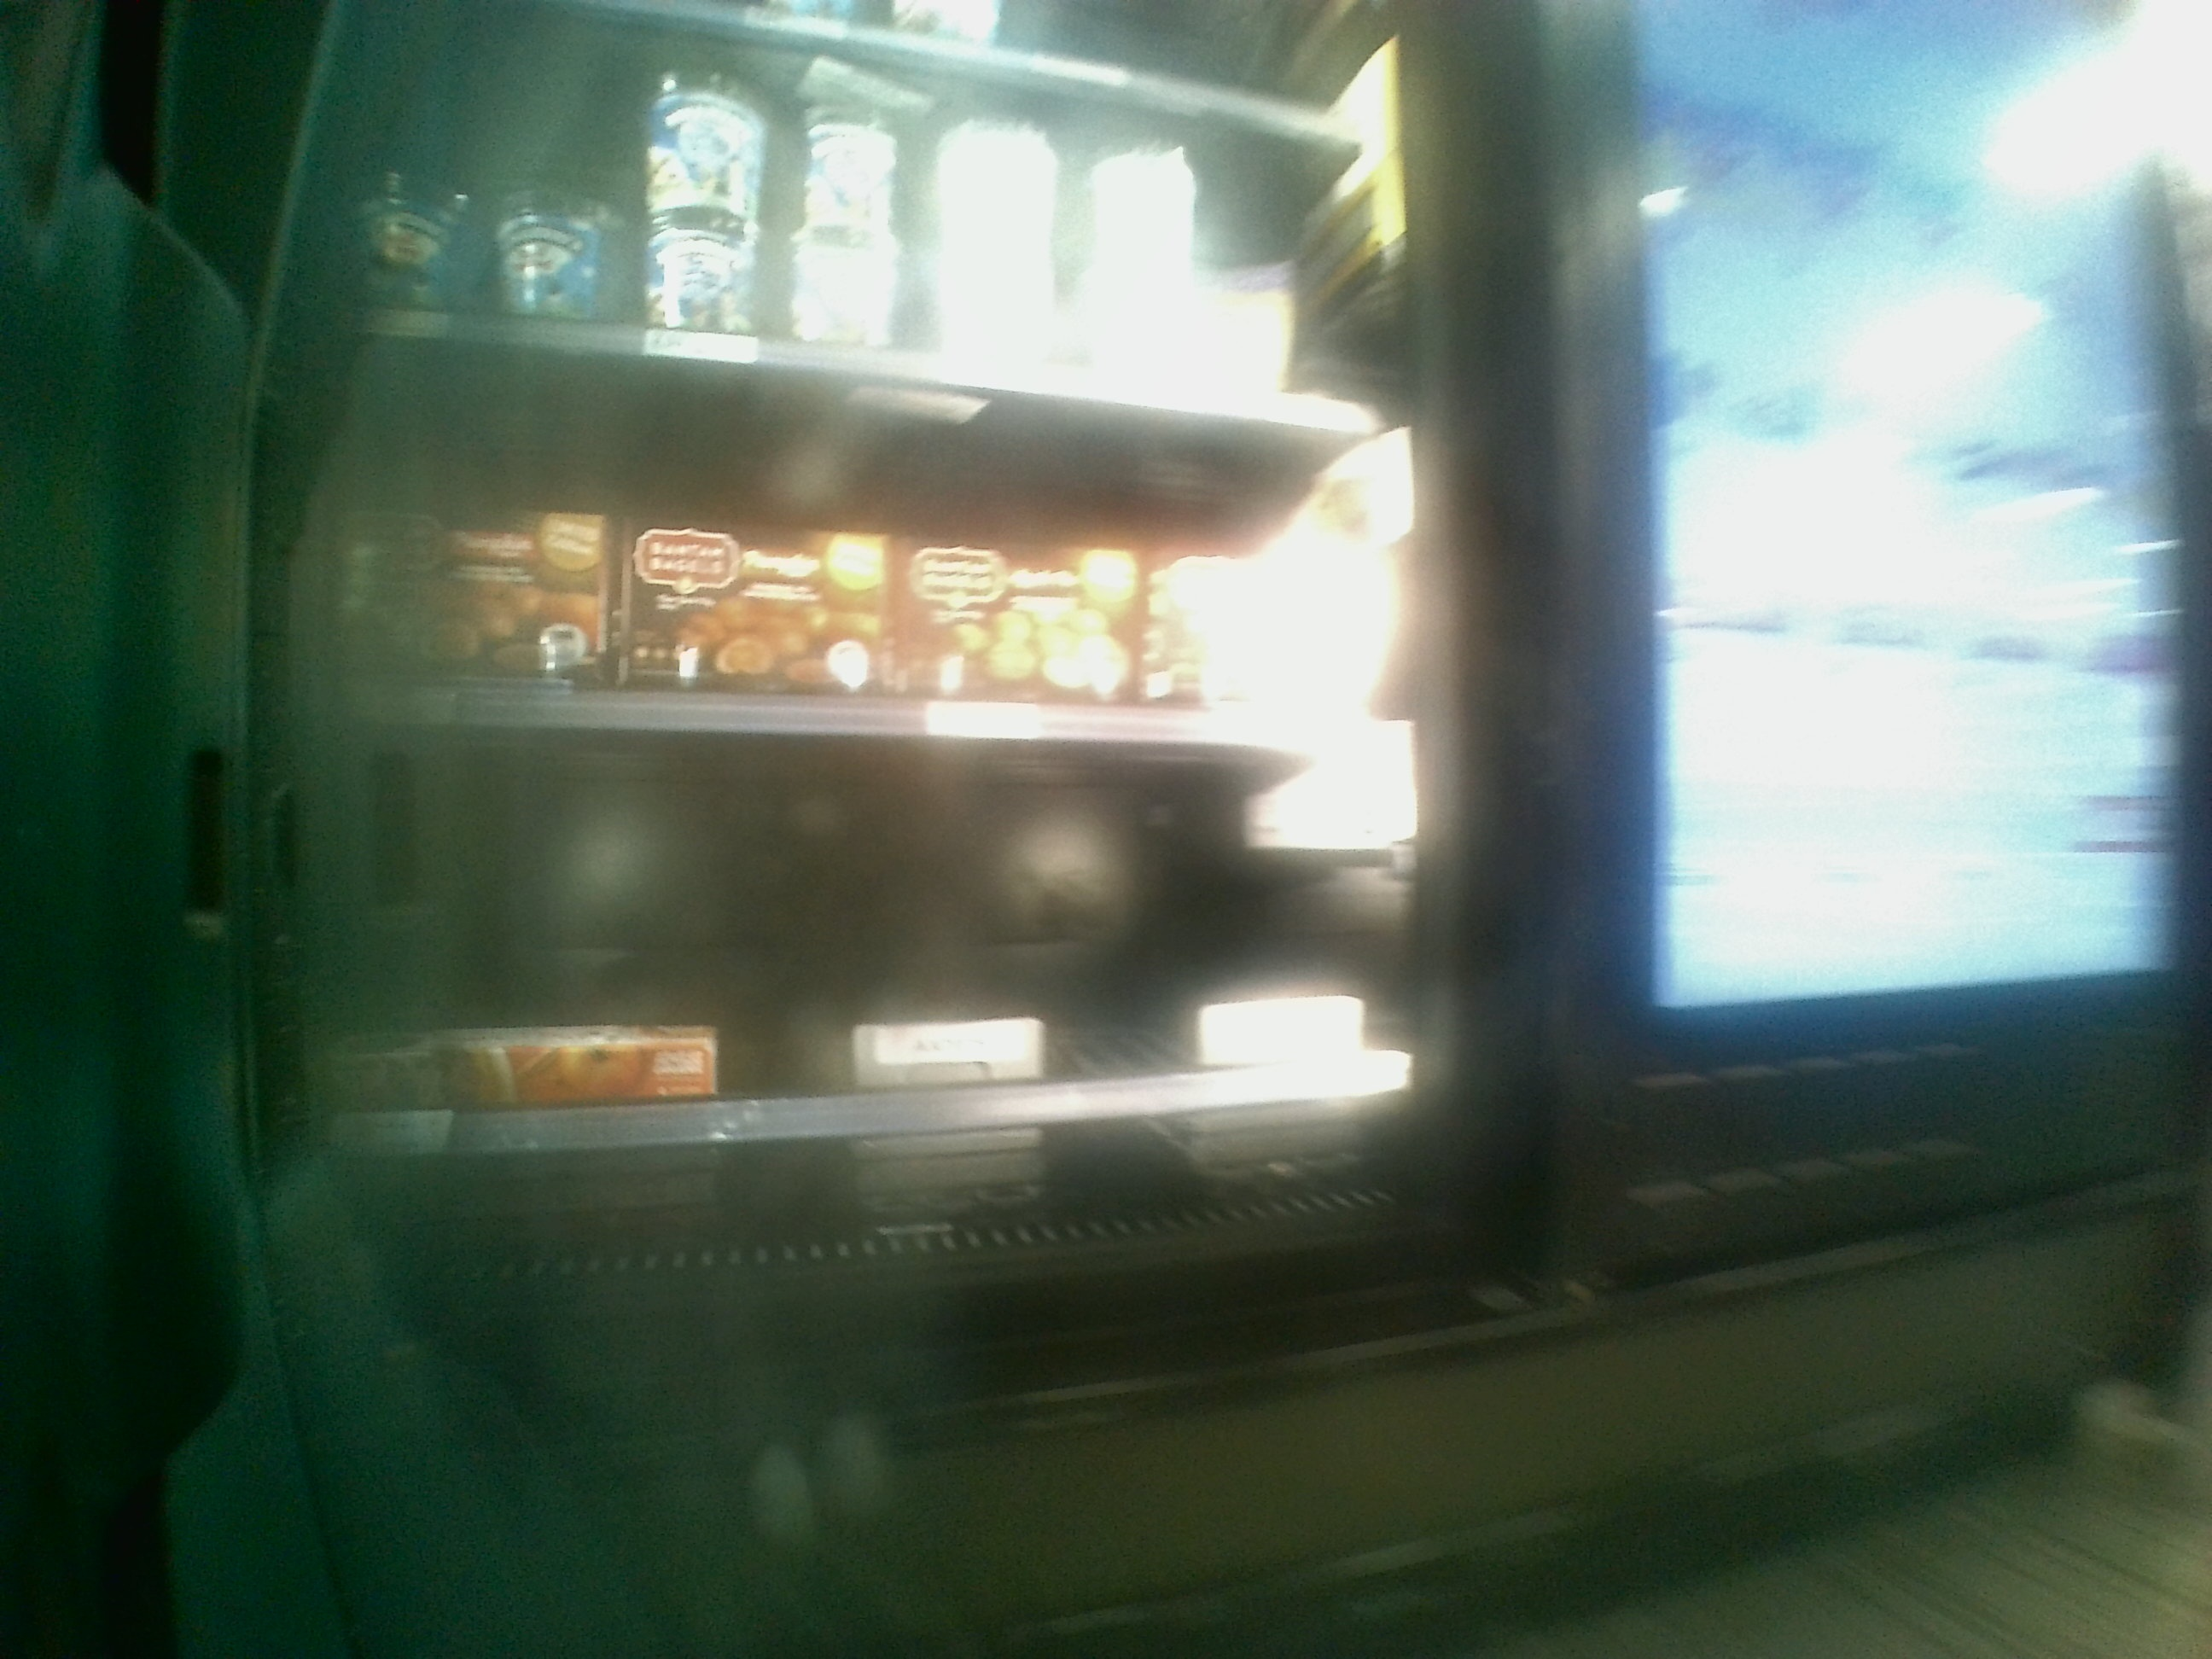shelf: (279, 708, 1428, 1105), (345, 321, 1421, 742)
